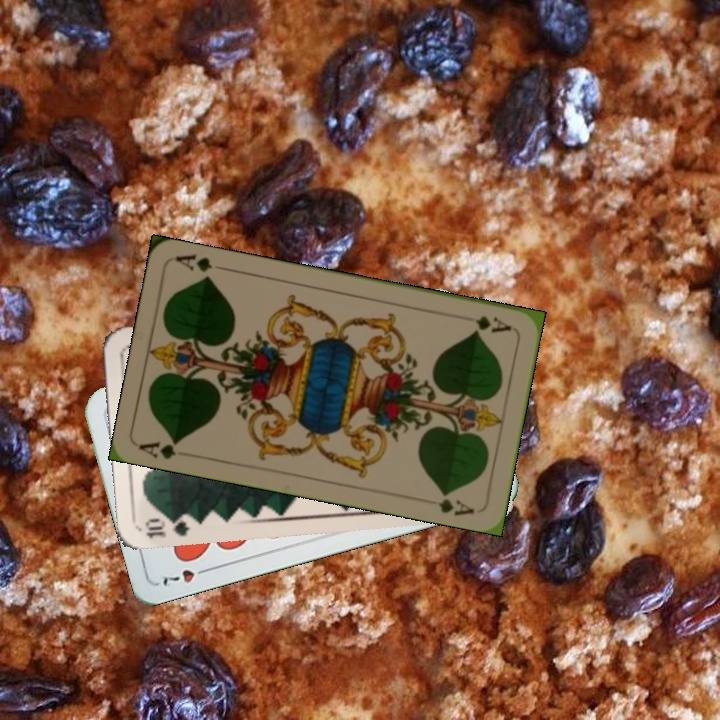G10: (141, 512, 192, 541)
GA: (457, 311, 514, 336), (136, 435, 182, 462)
H7: (157, 563, 214, 589)
